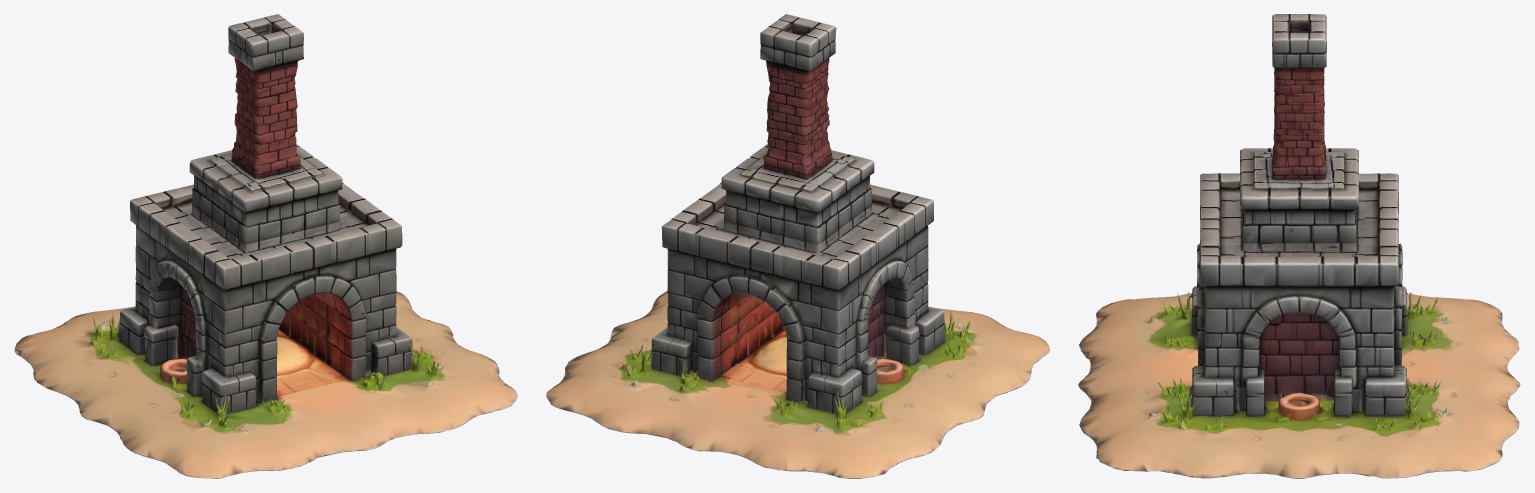
The model's file is upgrade.glb.
3 renders of one model, left to right at view 1: azimuth 30°, elevation 25°; view 2: azimuth 150°, elevation 25°; view 3: azimuth 270°, elevation 25°, orthographic. The views are drawn at different scales.
Parts seen in each view (by area): view 1: Mesh_0; view 2: Mesh_0; view 3: Mesh_0.
Part boxes in pixels (<box>): Mesh_0: <box>14,14,517,478</box>; Mesh_0: <box>546,14,1049,478</box>; Mesh_0: <box>1078,14,1520,478</box>.
Bounding box in the file's own units: 1.91 × 1.71 × 1.91.
Materials: 1 (1 with a texture image).
